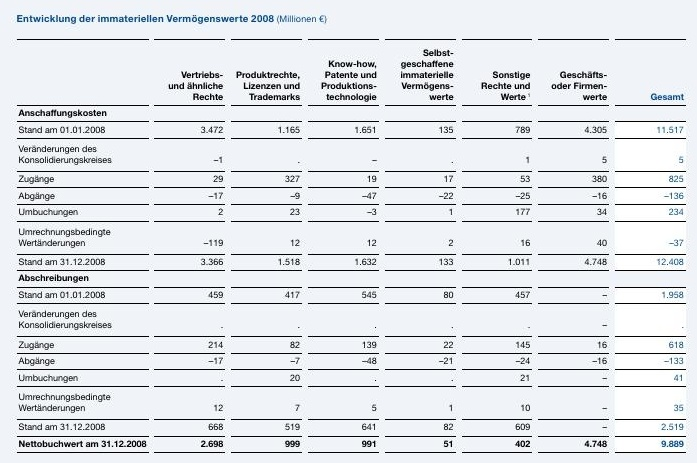table: (0, 0, 697, 463)
